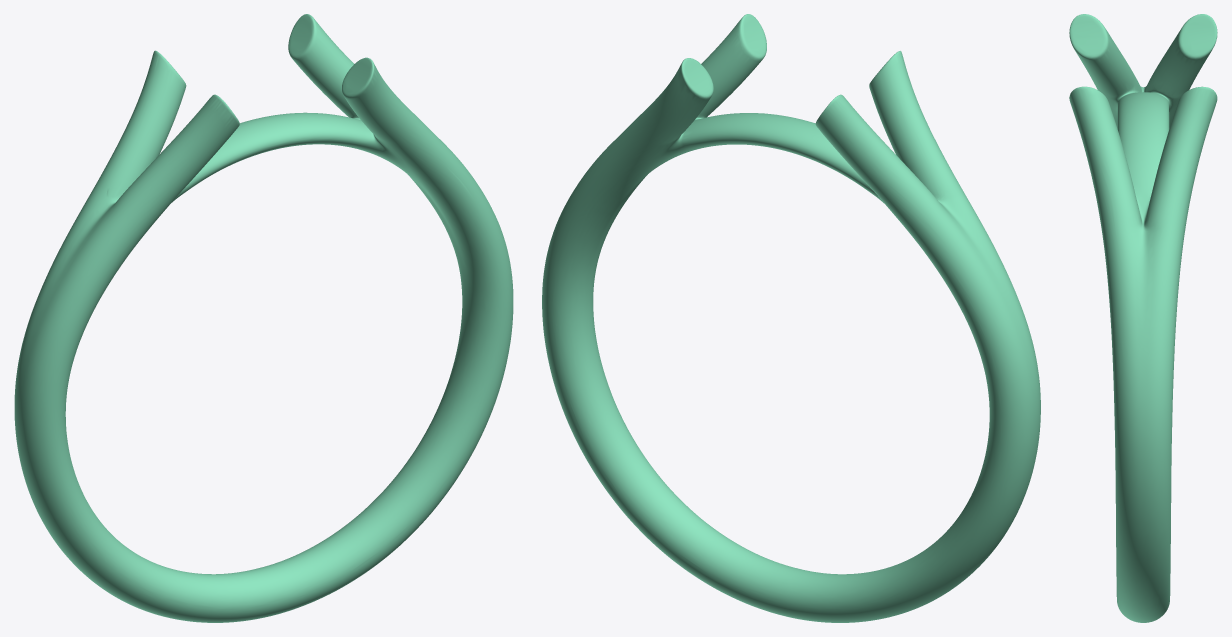
The picture shows the model from 3 angles, left to right: view 1: azimuth 30°, elevation 25°; view 2: azimuth 150°, elevation 25°; view 3: azimuth 270°, elevation 25°; orthographic projection. The views are drawn at different scales.
Visible parts, largest first — view 1: Metal02; view 2: Metal02; view 3: Metal02.
Boxes of the visible parts, bbox=[...] form: Metal02: bbox=[14, 14, 513, 622]; Metal02: bbox=[542, 14, 1040, 622]; Metal02: bbox=[1069, 14, 1217, 622].
Bounding box in the file's own units: 20.92 × 22.82 × 5.6.
